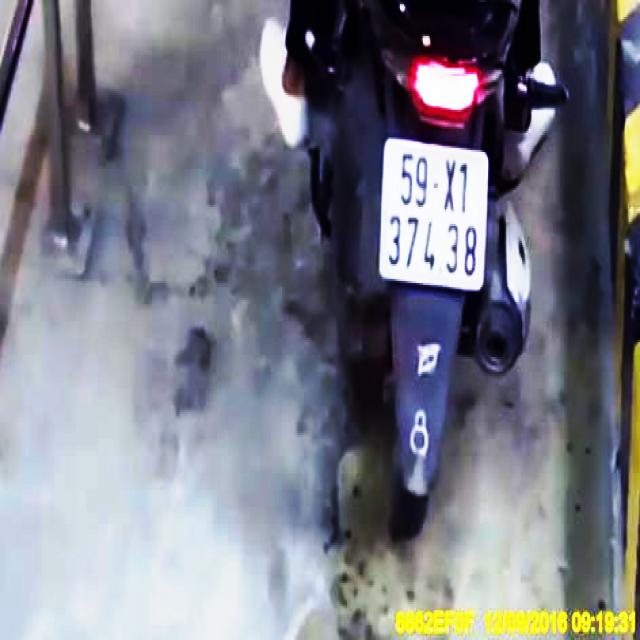license_plate: (379, 140, 490, 290)
